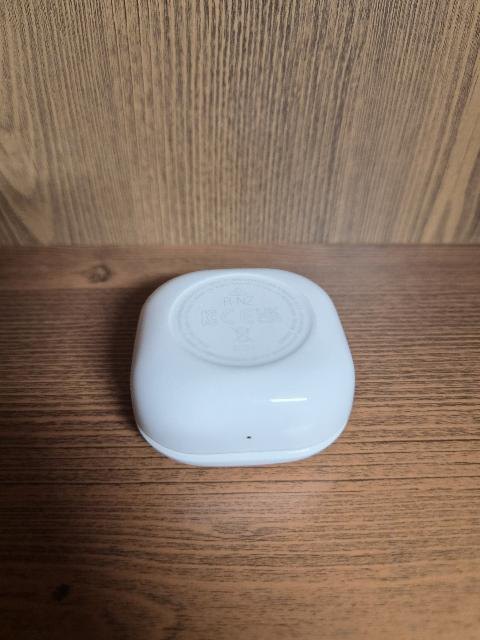earphone_case: (129, 268, 354, 467)
